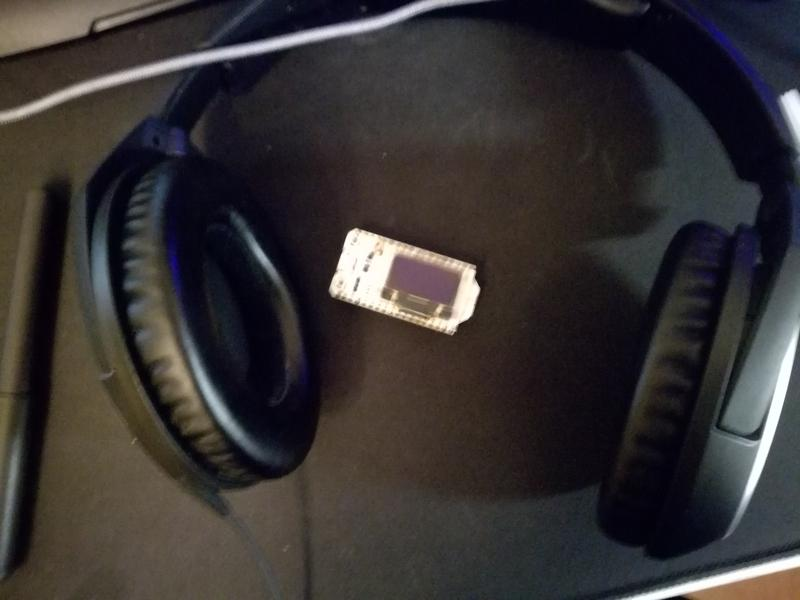Heltec_ESP32_Lora: (324, 222, 484, 337)
